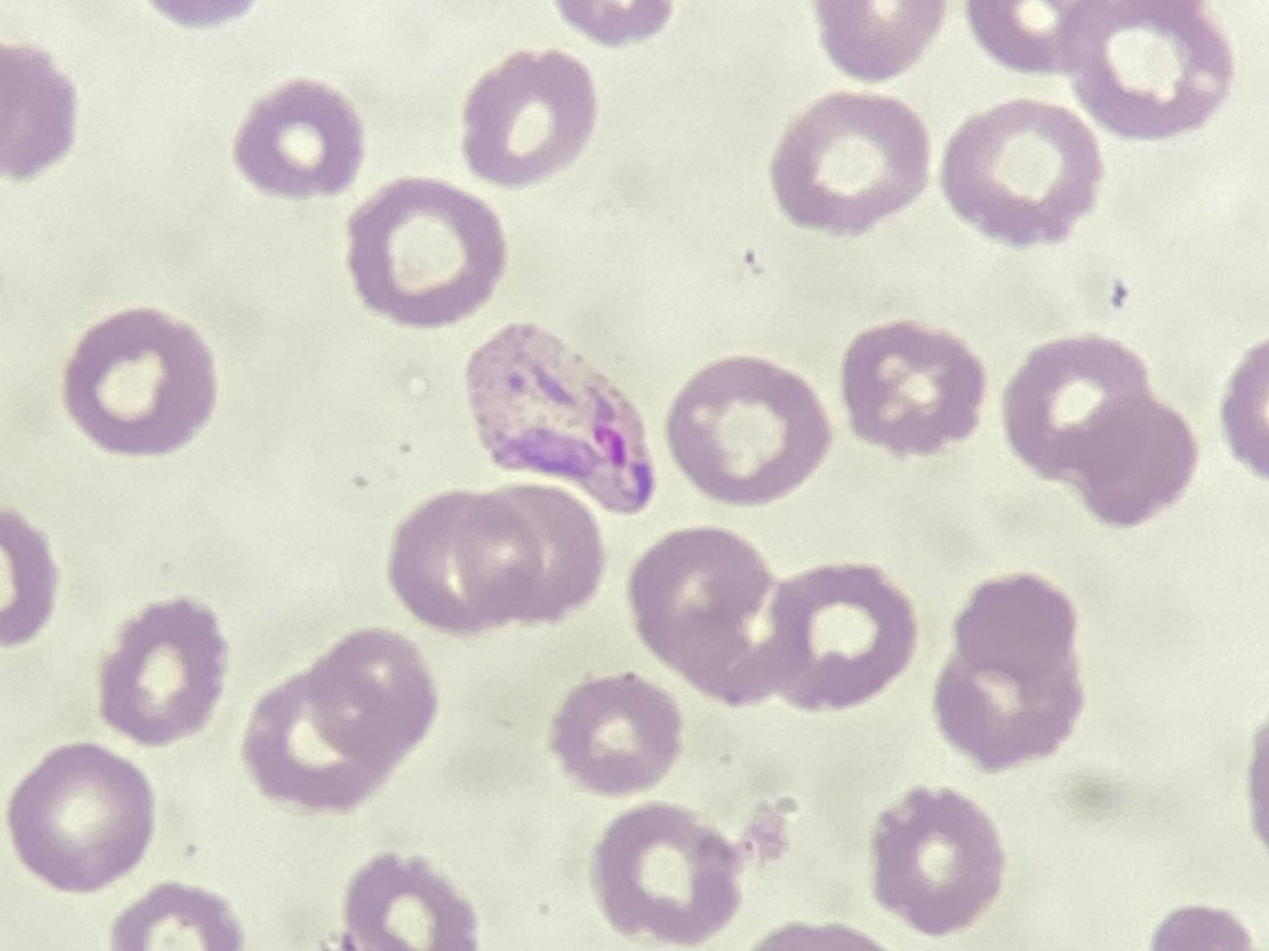Infected: (463, 324, 658, 516)
Uninfected: (631, 527, 799, 707), (664, 357, 833, 507), (943, 98, 1103, 247), (347, 177, 504, 328), (1067, 0, 1234, 141), (770, 91, 931, 236), (757, 567, 917, 711), (68, 306, 219, 454), (388, 489, 537, 635), (241, 665, 387, 812), (12, 745, 154, 889), (595, 803, 741, 943), (91, 597, 228, 745), (1003, 337, 1145, 479), (844, 319, 991, 456), (869, 785, 1001, 935), (458, 491, 606, 621), (935, 645, 1079, 774), (461, 50, 594, 184), (309, 630, 438, 765), (235, 78, 364, 198), (1074, 395, 1193, 524), (549, 678, 679, 794), (342, 851, 478, 951)
